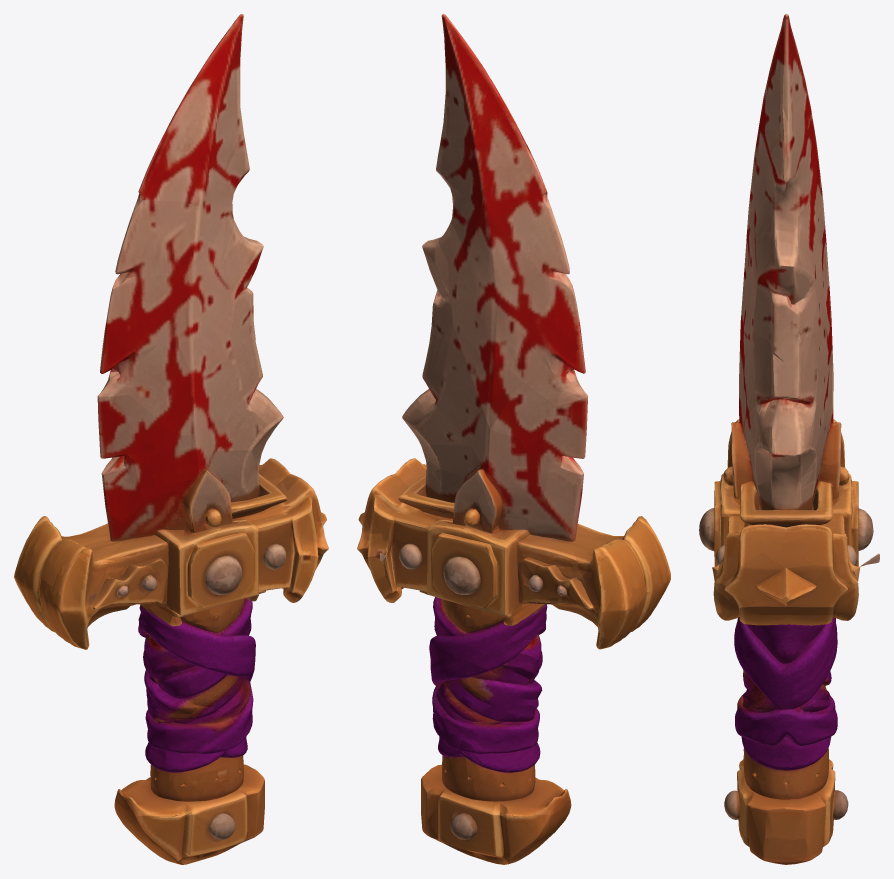
The model's file is dagger.glb.
The picture shows the model from 3 angles, left to right: view 1: azimuth 30°, elevation 25°; view 2: azimuth 150°, elevation 25°; view 3: azimuth 270°, elevation 25°; orthographic projection. The views are drawn at different scales.
Visible parts, largest first — view 1: Mesh_0; view 2: Mesh_0; view 3: Mesh_0.
Part boxes in pixels (x1,y1,x2,y2): Mesh_0: (14,14,328,864); Mesh_0: (357,14,670,864); Mesh_0: (699,14,879,864).
Bounding box in the file's own units: 0.6964 × 1.9 × 0.3624.
1 material, 1 textured.
